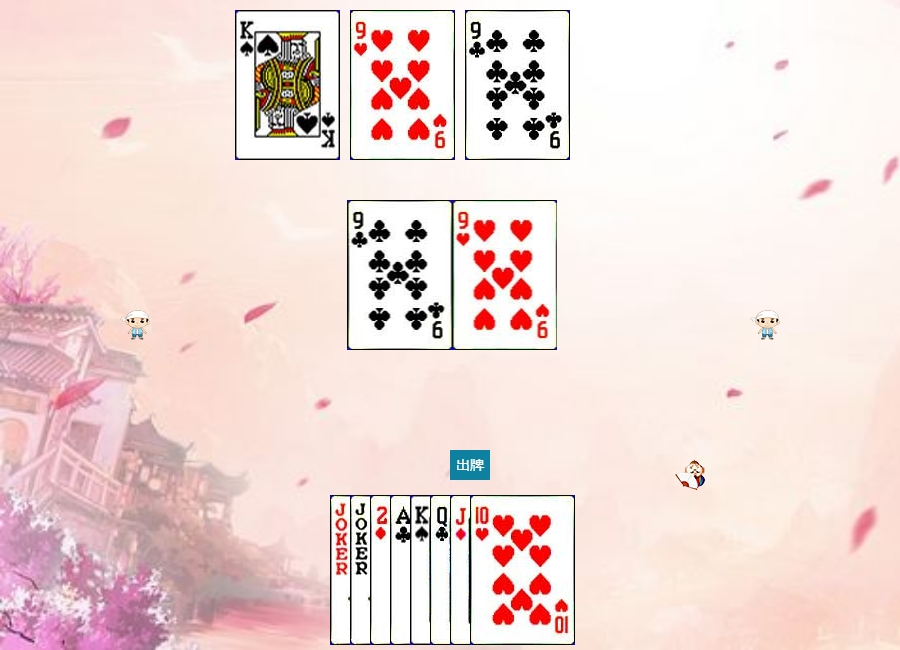10~3: (470, 495, 575, 645)
11~1: (450, 495, 555, 645)
12~2: (430, 495, 535, 645)
13~4: (235, 10, 340, 160), (410, 495, 515, 645)
14~2: (390, 495, 495, 645)
15~1: (370, 495, 475, 645)
17~3: (350, 495, 455, 645)
18~4: (330, 495, 435, 645)
9~2: (465, 10, 570, 160), (348, 200, 453, 350)
9~3: (350, 10, 455, 160), (453, 200, 558, 350)
